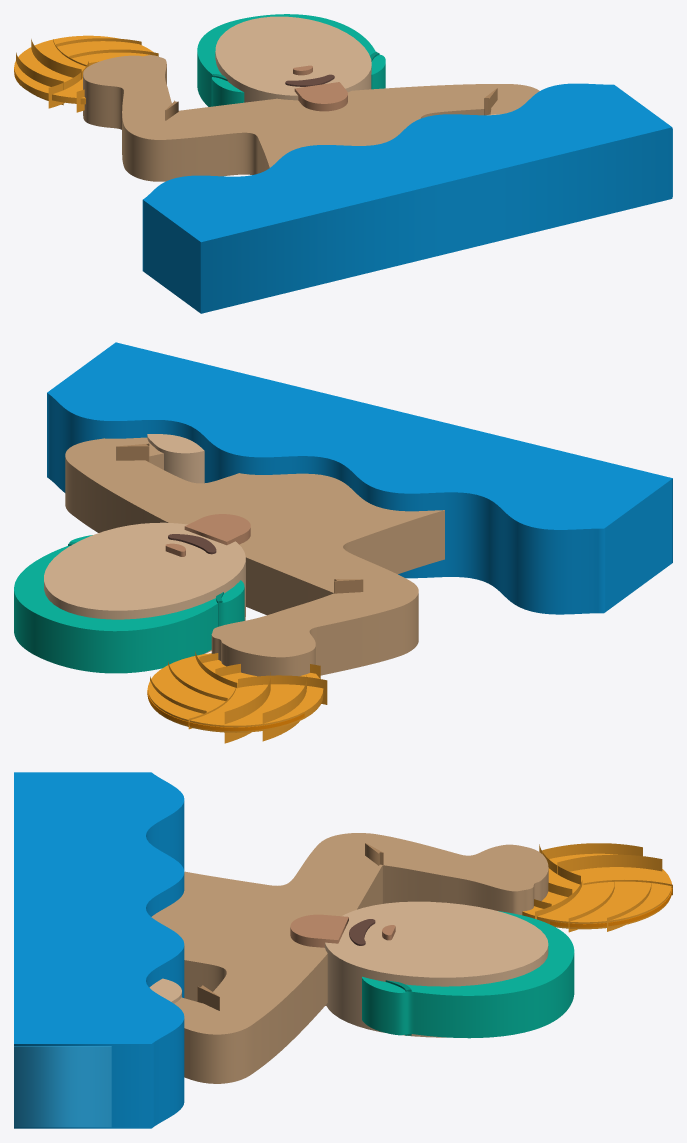
The model's file is emoji_u1f93d_1f3fc_200d_2642.glb.
3 renders of one model, top to bottom at view 1: azimuth 30°, elevation 25°; view 2: azimuth 150°, elevation 25°; view 3: azimuth 270°, elevation 25°, orthographic. The views are drawn at different scales.
Parts seen in each view (by area): view 1: emoji_u1f93d_1f3fc_200d_2642; view 2: emoji_u1f93d_1f3fc_200d_2642; view 3: emoji_u1f93d_1f3fc_200d_2642.
Boxes of the visible parts, left/top/right/bottom form: emoji_u1f93d_1f3fc_200d_2642: left=14, top=14, right=672, bottom=313; emoji_u1f93d_1f3fc_200d_2642: left=14, top=342, right=672, bottom=743; emoji_u1f93d_1f3fc_200d_2642: left=14, top=772, right=672, bottom=1128.
Bounding box in the file's own units: 0.0331 × 0.0048 × 0.0339.
